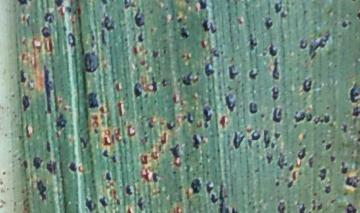tarspot: (307, 29, 331, 61), (42, 63, 57, 114), (292, 111, 331, 127), (218, 182, 238, 213), (54, 112, 70, 139), (83, 51, 100, 74), (168, 143, 183, 167), (35, 178, 49, 202), (347, 80, 360, 104), (133, 6, 146, 28), (231, 130, 244, 152), (222, 93, 236, 113), (247, 32, 259, 54), (271, 57, 281, 83), (275, 150, 288, 170), (202, 105, 212, 130), (344, 175, 360, 190), (83, 196, 97, 213), (226, 64, 240, 81), (86, 91, 99, 109), (267, 39, 280, 57), (180, 70, 192, 89), (261, 129, 271, 151), (100, 16, 114, 31), (139, 164, 150, 183), (45, 159, 58, 175), (190, 177, 202, 194), (271, 106, 283, 123), (191, 132, 201, 152), (31, 155, 43, 171), (66, 31, 77, 48), (204, 59, 215, 76), (316, 167, 328, 182), (21, 93, 30, 113), (18, 66, 28, 84), (178, 25, 190, 40), (78, 135, 90, 150), (344, 202, 360, 213), (200, 18, 210, 35), (40, 26, 52, 40), (249, 130, 263, 142), (135, 30, 146, 45), (296, 146, 307, 161), (263, 15, 273, 31), (270, 85, 280, 101), (133, 82, 143, 98), (43, 12, 55, 25), (126, 123, 137, 137), (150, 75, 158, 94), (99, 27, 107, 46), (302, 78, 312, 93), (218, 114, 228, 129), (67, 161, 78, 174), (273, 1, 284, 14), (204, 180, 214, 194), (247, 69, 259, 80), (98, 195, 108, 208), (116, 101, 124, 117), (351, 105, 360, 119), (248, 101, 257, 115), (208, 21, 217, 35), (264, 153, 275, 164), (339, 160, 347, 175), (307, 155, 315, 170), (136, 195, 144, 210), (165, 120, 177, 130), (160, 131, 168, 146), (277, 200, 286, 213), (197, 1, 210, 10), (102, 135, 111, 148), (186, 111, 194, 125), (104, 169, 112, 183), (298, 38, 308, 49), (99, 104, 109, 115), (124, 183, 133, 195), (139, 153, 148, 165), (297, 202, 306, 213), (199, 39, 208, 50), (151, 171, 158, 185), (25, 15, 32, 29), (44, 140, 52, 152), (211, 47, 219, 59), (210, 193, 218, 204), (324, 184, 332, 195), (273, 130, 281, 141), (151, 48, 159, 59), (131, 45, 139, 56), (310, 198, 316, 212), (279, 10, 288, 19), (110, 154, 118, 164), (160, 78, 168, 88), (147, 120, 155, 130), (53, 1, 64, 8), (341, 123, 348, 134), (113, 81, 120, 92), (324, 142, 332, 151), (123, 1, 132, 9), (101, 149, 110, 157), (139, 58, 147, 67), (76, 7, 84, 16), (22, 159, 29, 169), (290, 171, 297, 181), (286, 164, 294, 172), (286, 180, 294, 188), (64, 6, 72, 14), (340, 20, 347, 29), (329, 154, 336, 163), (316, 201, 323, 210), (269, 141, 276, 150), (237, 16, 244, 25), (175, 17, 183, 24), (125, 206, 133, 213), (302, 9, 309, 17), (123, 36, 131, 43), (17, 1, 28, 6), (171, 94, 177, 103), (20, 14, 26, 23), (356, 11, 360, 22), (274, 180, 280, 187), (90, 177, 96, 184), (100, 1, 109, 5), (162, 48, 168, 54), (183, 1, 191, 5), (356, 136, 360, 144), (325, 105, 329, 111), (350, 1, 357, 3)
